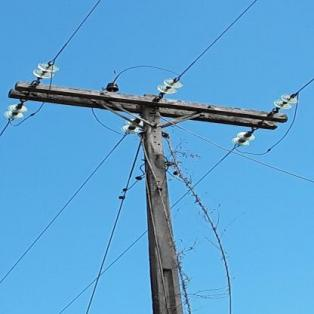Poste: (136, 84, 198, 314)
